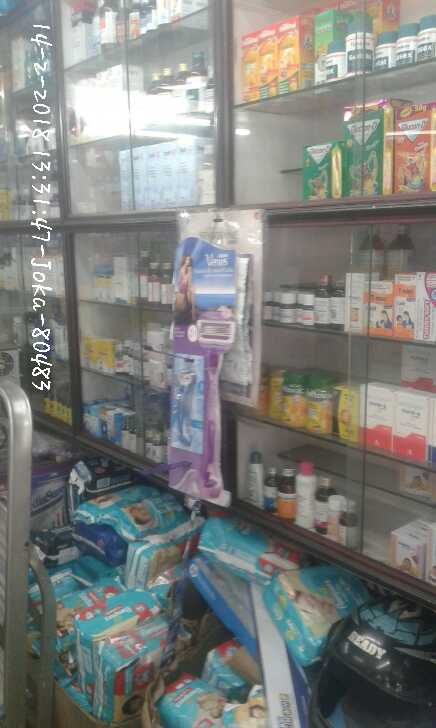venus: (159, 356, 210, 464)
